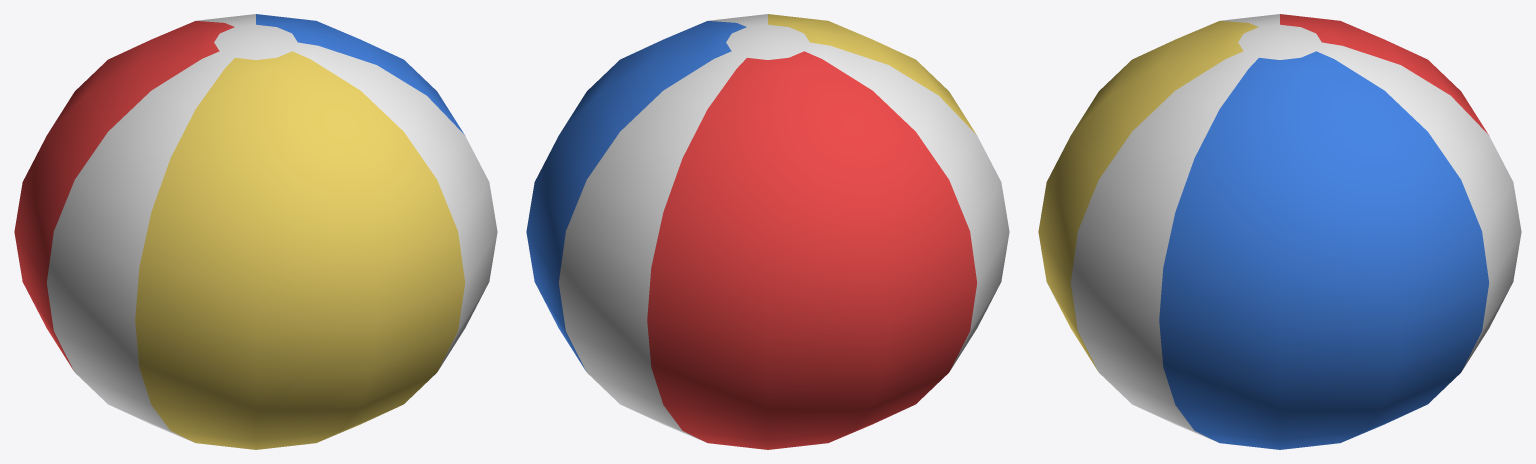
Rendered from Ball.fbx.
3 renders of one model, left to right at view 1: azimuth 30°, elevation 25°; view 2: azimuth 150°, elevation 25°; view 3: azimuth 270°, elevation 25°, orthographic.
Visible parts, largest first — view 1: Ball; view 2: Ball; view 3: Ball.
Boxes of the visible parts, x1,y1,x2,y2 form: Ball: (14,14,497,449); Ball: (526,14,1009,449); Ball: (1038,14,1521,449).
Size of the model in its own units: 2.65 by 2.35 by 2.65.
